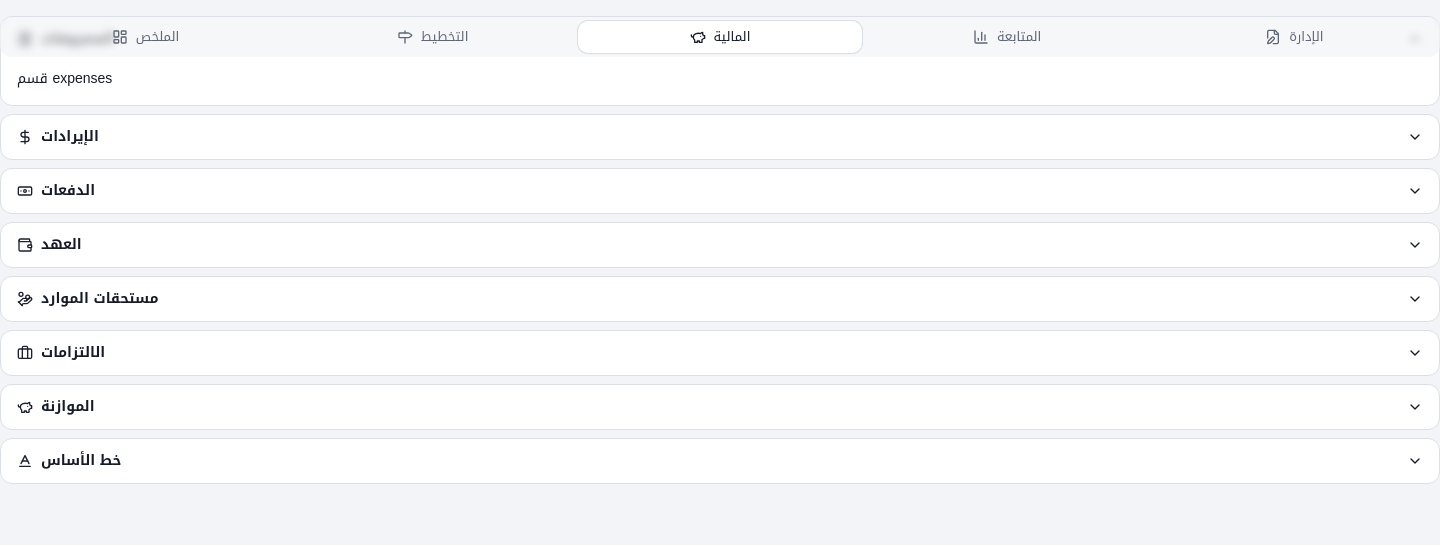
Scenario: ProjectGroupTabs › reports the section a person opens by hand, and closing one leaves the rest
Later steps or results of the test are not shown.
Click the button "الموازنة" at (68, 407), box [17, 385, 1423, 429]
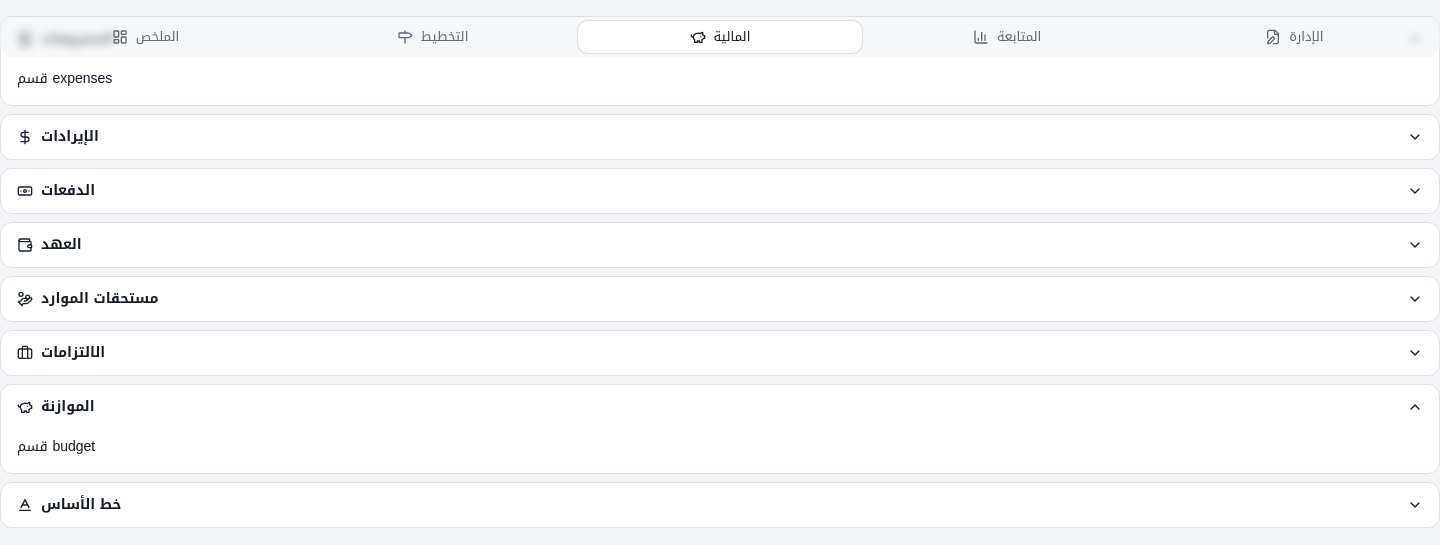
expect the button "الموازنة" is expanded: met, box [17, 385, 1423, 429]
